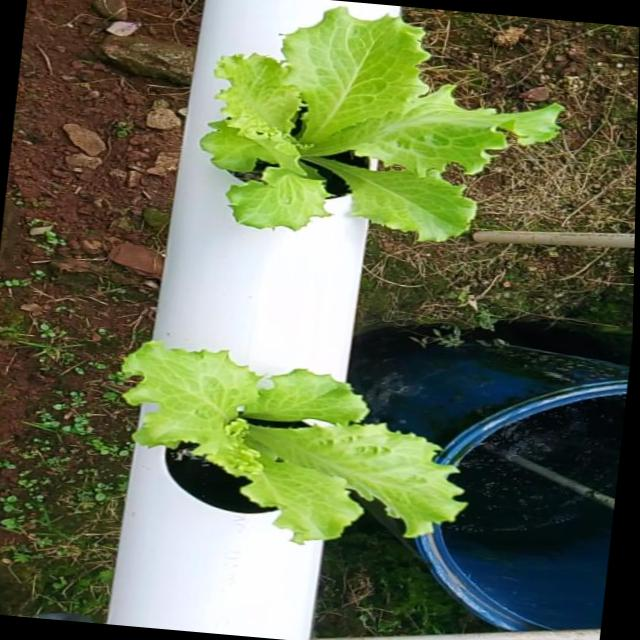Baby: (200, 12, 562, 249), (122, 354, 472, 559)
